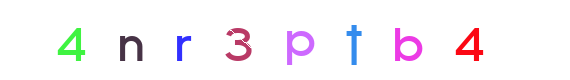3: (236, 0, 316, 80)
4: (33, 0, 113, 80), (431, 0, 511, 80)
B: (312, 0, 392, 80)
N: (89, 0, 169, 80)
P: (245, 0, 325, 80)
R: (201, 0, 281, 80)
T: (245, 0, 325, 80)
